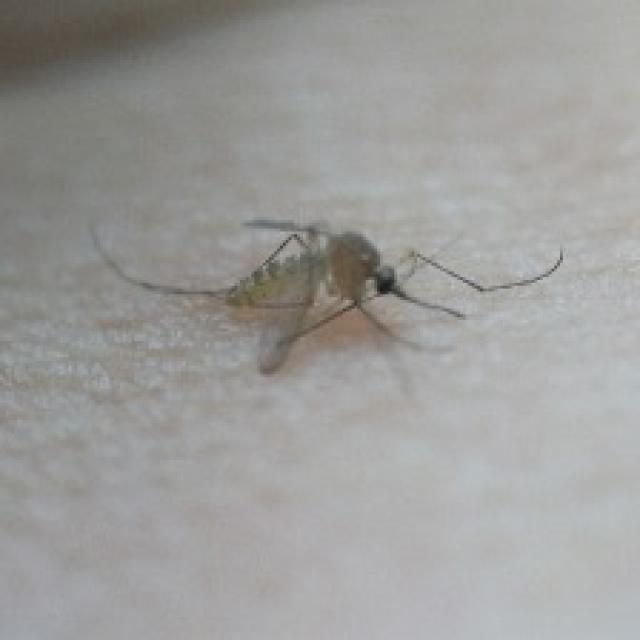culex: (86, 209, 563, 374)
